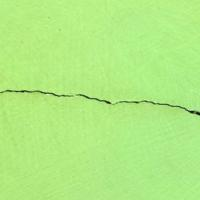crack: (0, 56, 199, 142)
